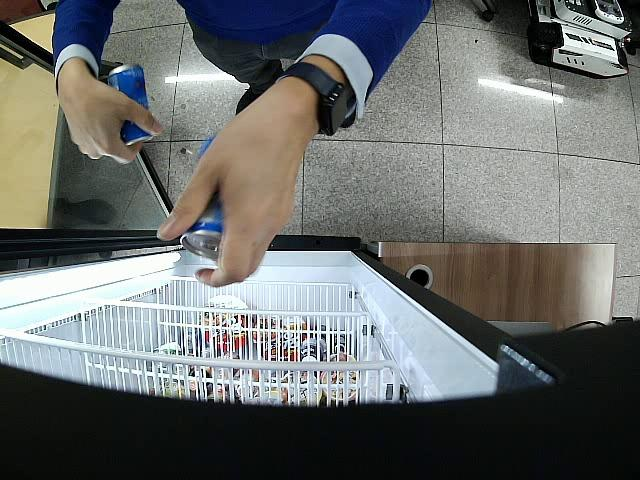00_hand: (156, 102, 313, 287), (60, 75, 166, 166)
15_letsbe: (179, 135, 222, 262), (108, 64, 153, 145)
